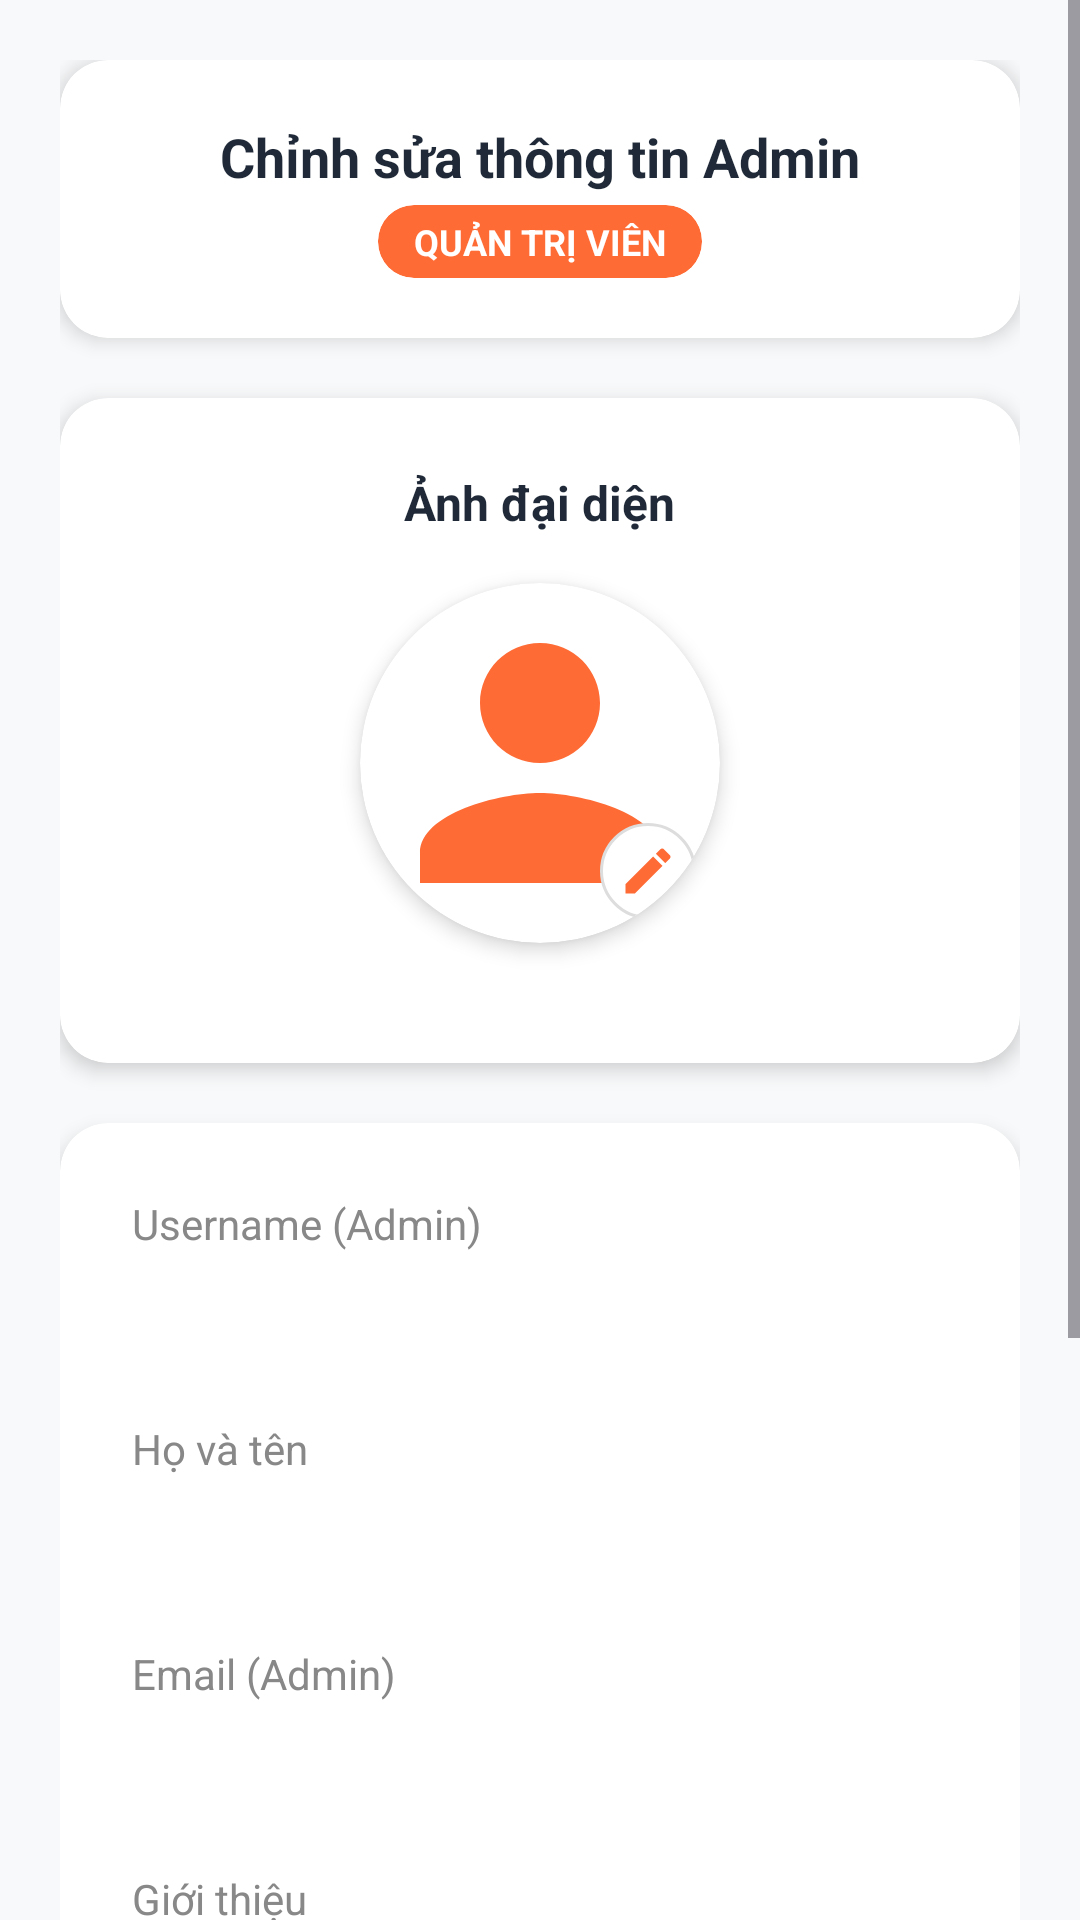

Screen size 1080w x 1920h. Icon name, then its center in pixels as point (x, y):
edit: point (648, 871)
